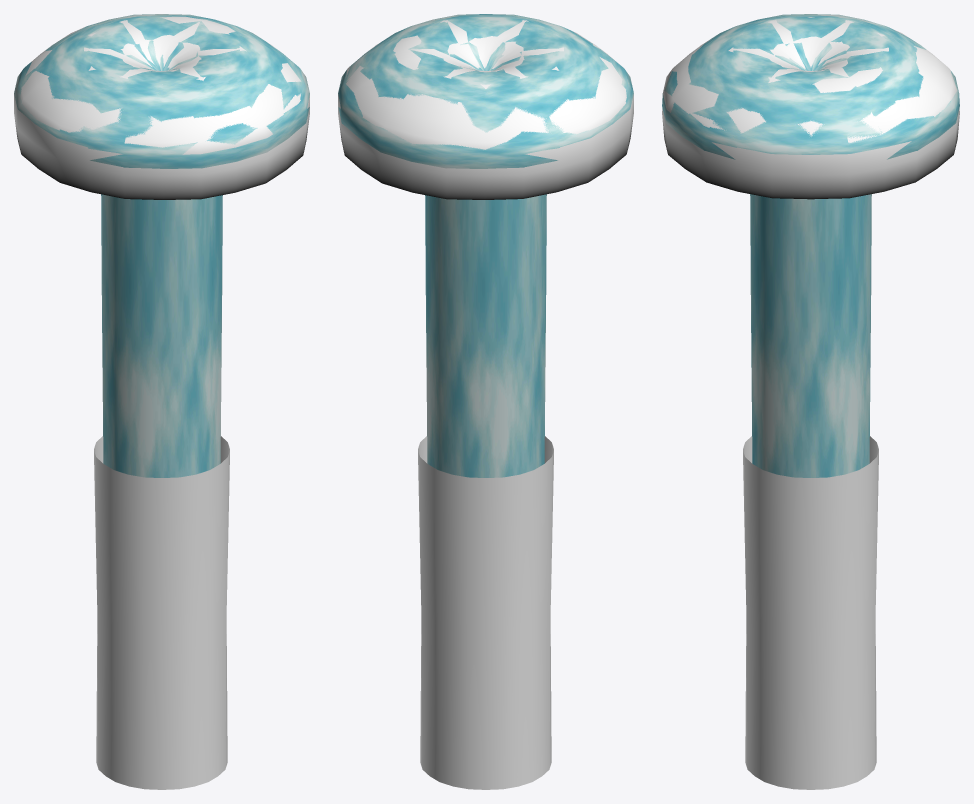
The model's file is HotSpringManhole_Prefab.fbx.
3 renders of one model, left to right at view 1: azimuth 30°, elevation 25°; view 2: azimuth 150°, elevation 25°; view 3: azimuth 270°, elevation 25°, orthographic.
Visible parts, largest first — view 1: HotSpringA, WaterColumnA; view 2: HotSpringA, WaterColumnA; view 3: HotSpringA, WaterColumnA.
Part boxes in pixels (x1,y1,x2,y2): HotSpringA: (14,16,309,789); WaterColumnA: (14,14,309,477); HotSpringA: (338,20,633,789); WaterColumnA: (338,14,633,477); HotSpringA: (662,17,959,789); WaterColumnA: (662,14,959,477).
Bounding box in the file's own units: 11.85 × 31.86 × 12.06.
